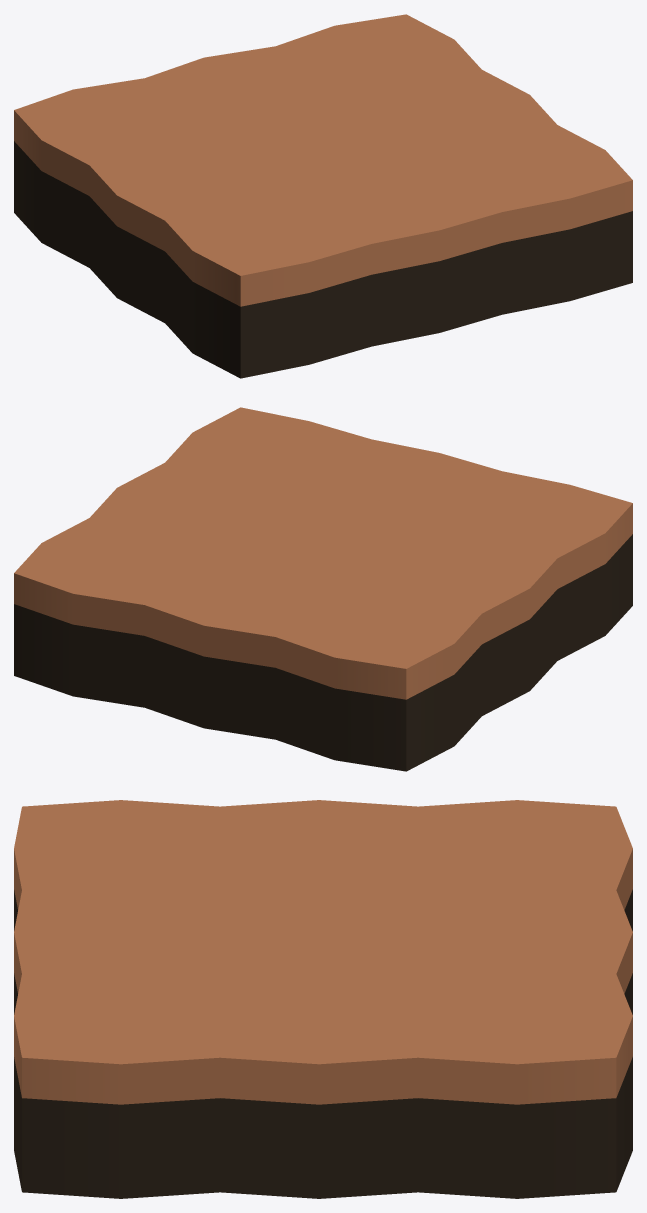
Rendered from jaggeredTile-22b_col.fbx.
3 views of the same model, one above another, from view 1: azimuth 30°, elevation 25°; view 2: azimuth 150°, elevation 25°; view 3: azimuth 270°, elevation 25° (orthographic). The views are drawn at different scales.
Parts seen in each view (by area): view 1: jaggeredTile-22b.col; view 2: jaggeredTile-22b.col; view 3: jaggeredTile-22b.col.
Boxes of the visible parts, x1,y1,x2,y2 form: jaggeredTile-22b.col: (14,14,632,378); jaggeredTile-22b.col: (14,407,632,771); jaggeredTile-22b.col: (14,800,632,1198).
Bounding box in the file's own units: 2.1 × 0.5 × 2.08.
Materials: 1 (1 with a texture image).
